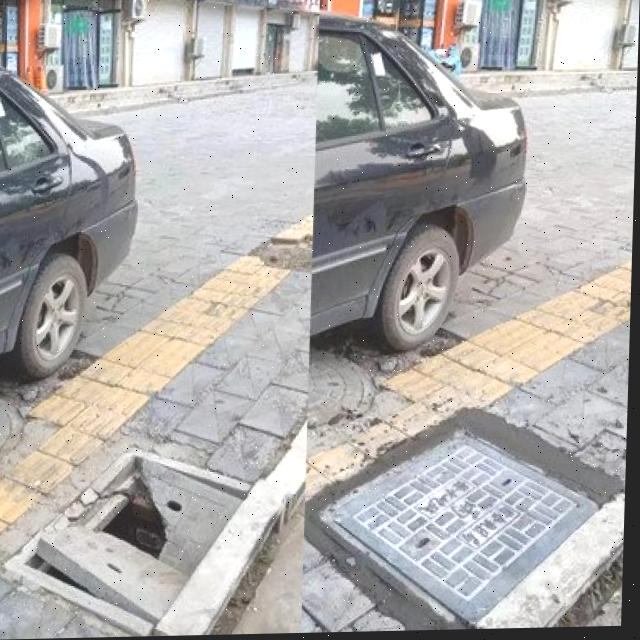manhole: (21, 441, 259, 620)
